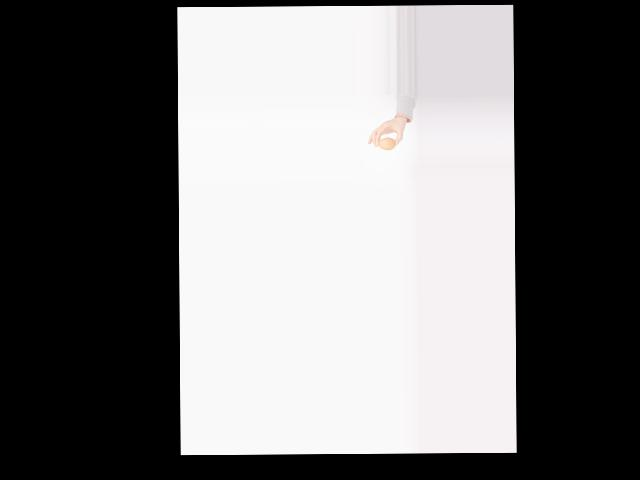egg: (378, 138, 395, 150)
